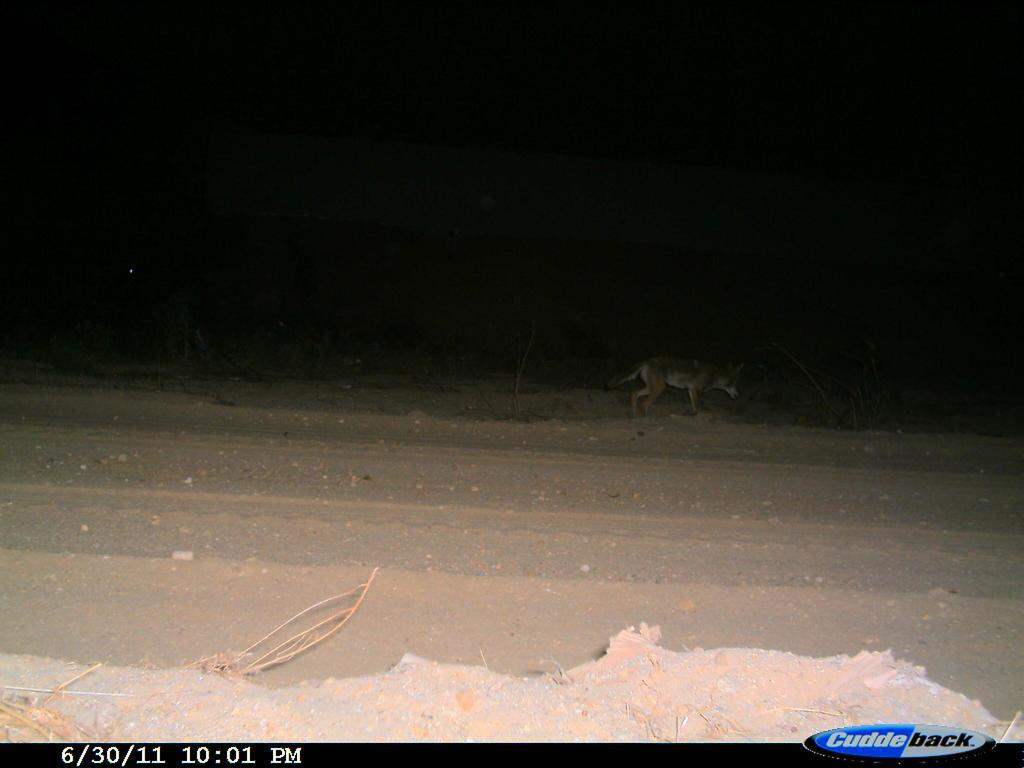coyote: (601, 344, 756, 427)
